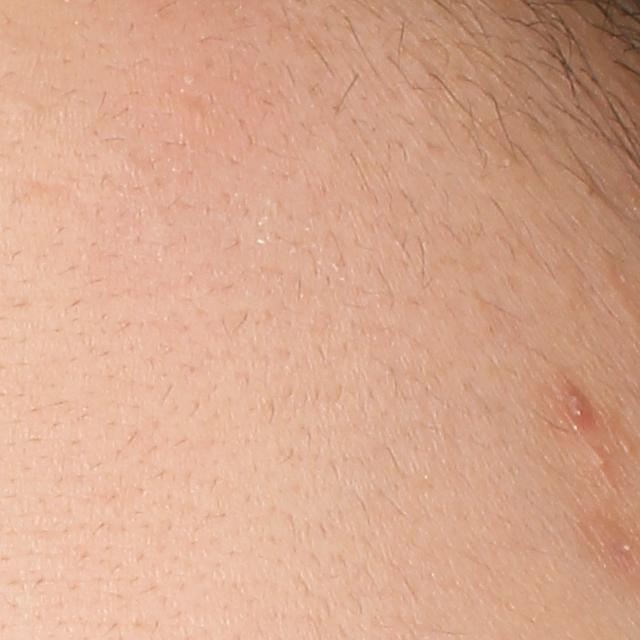papule: (555, 382, 595, 439)
